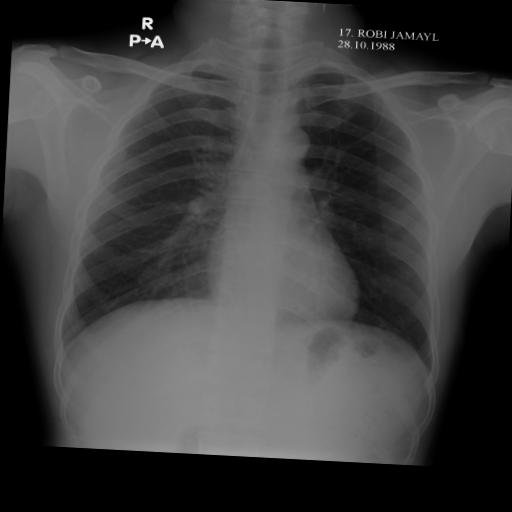normal: (40, 21, 474, 400)
